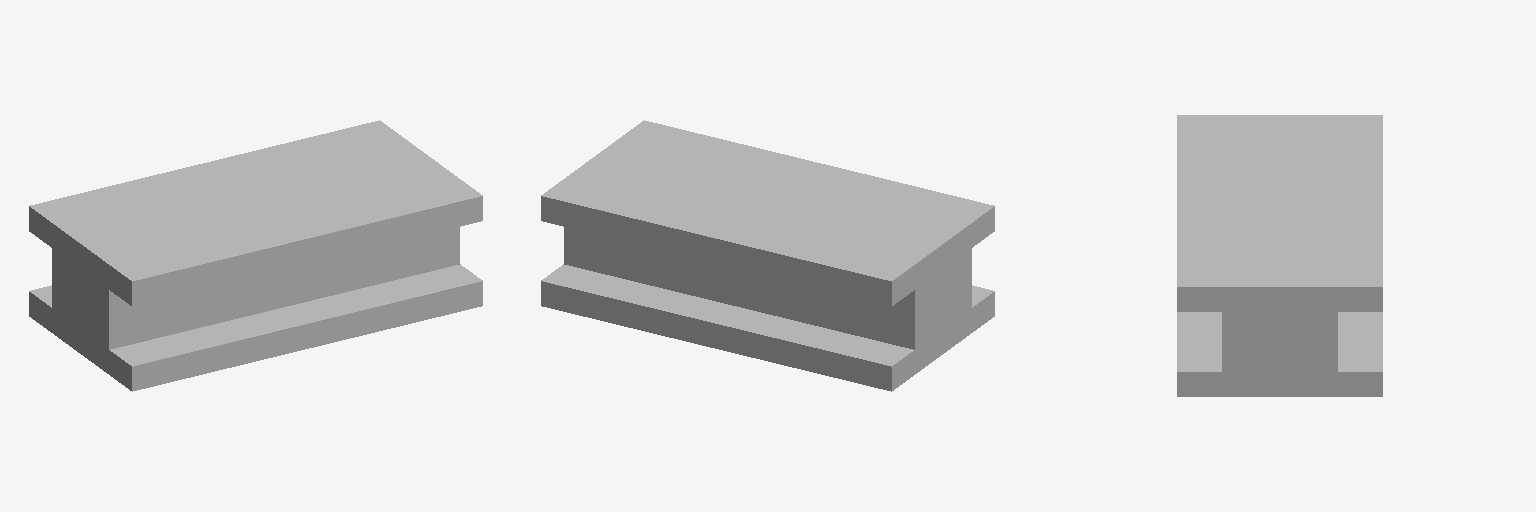
Rendered from girder_platform.obj.
The picture shows the model from 3 angles: view 1: azimuth 30°, elevation 25°; view 2: azimuth 150°, elevation 25°; view 3: azimuth 270°, elevation 25°; orthographic projection.
Visible parts, largest first — view 1: pCube1; view 2: pCube1; view 3: pCube1.
Part boxes in pixels (x1,y1,x2,y2): pCube1: (29, 120, 482, 391); pCube1: (541, 120, 994, 391); pCube1: (1177, 115, 1382, 396).
Bounding box in the file's own units: 3.51 × 1.05 × 1.79.